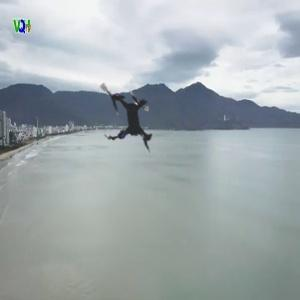drone: (68, 57, 192, 181)
